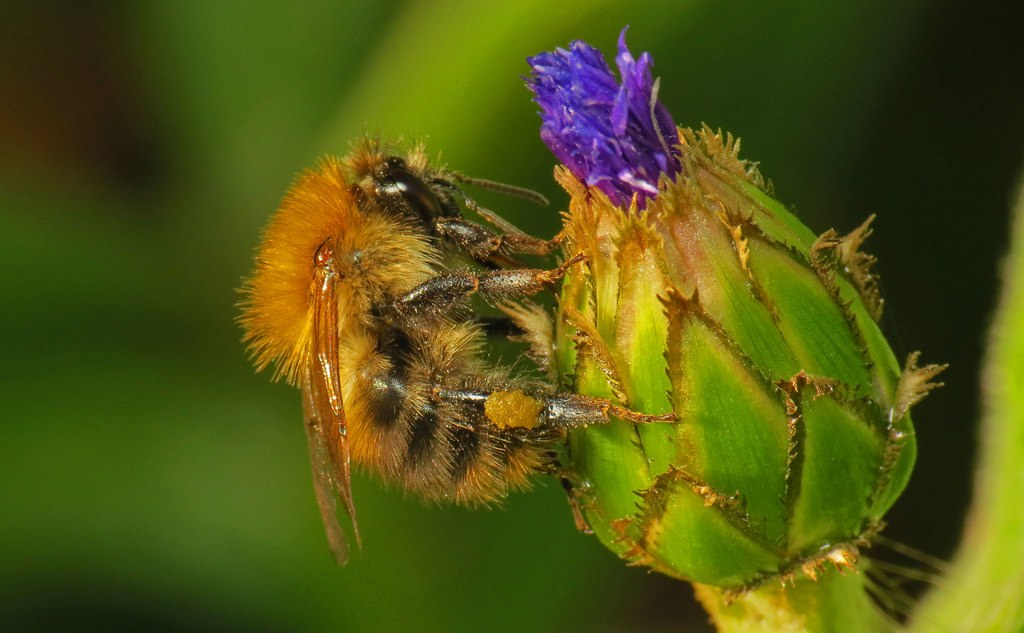bee: (216, 108, 680, 575)
insect: (511, 34, 664, 218)
